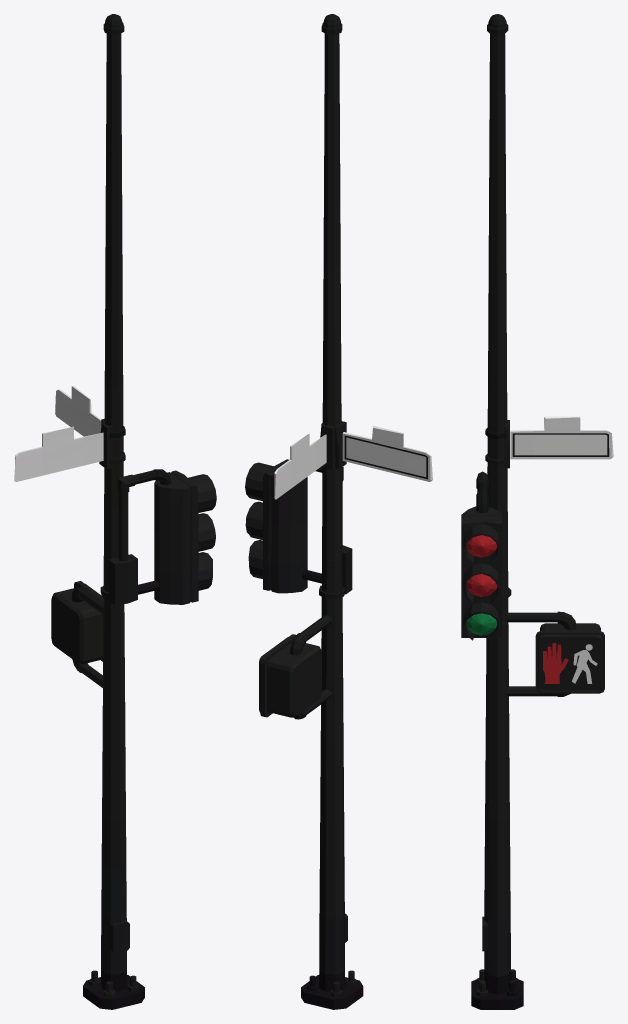
Rendered from LightPole04.fbx.
3 renders of one model, left to right at view 1: azimuth 30°, elevation 25°; view 2: azimuth 150°, elevation 25°; view 3: azimuth 270°, elevation 25°, orthographic.
Visible parts, largest first — view 1: SM_City_LightPole_01e.mo; view 2: SM_City_LightPole_01e.mo; view 3: SM_City_LightPole_01e.mo.
Part boxes in pixels (x1=…): SM_City_LightPole_01e.mo: x1=14, y1=14, x2=216, y2=1009; SM_City_LightPole_01e.mo: x1=245, y1=14, x2=432, y2=1009; SM_City_LightPole_01e.mo: x1=461, y1=14, x2=613, y2=1009.
Bounding box in the file's own units: 164 × 824 × 116.
